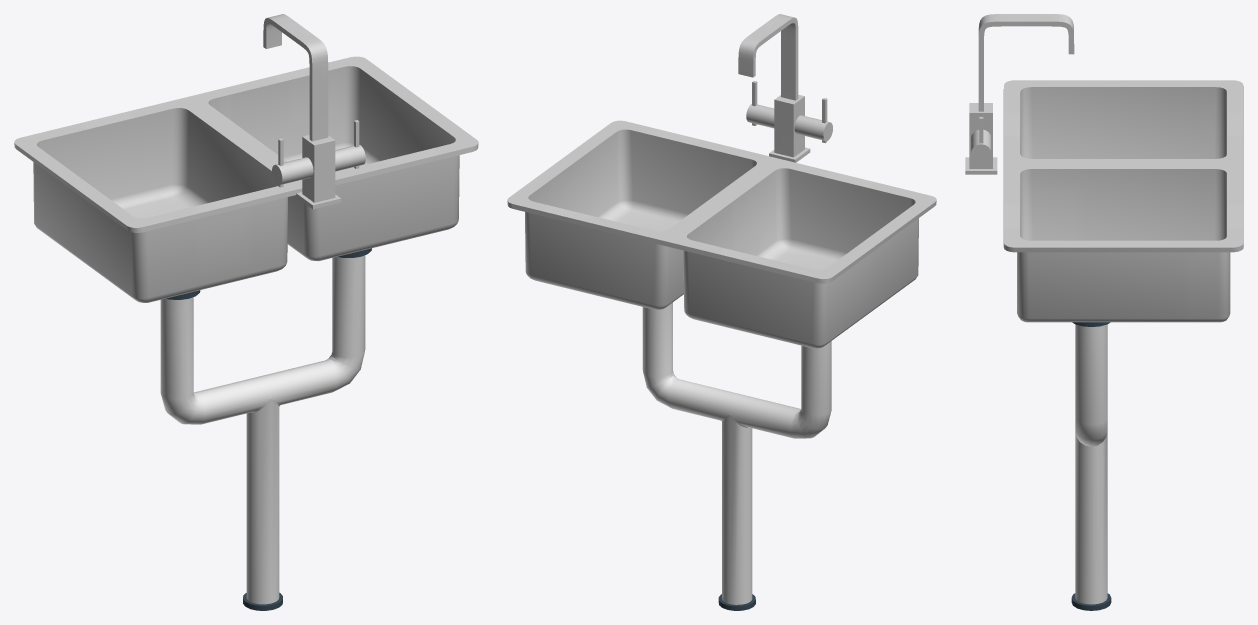
File: Sink06.glb
3 views of the same model, side by side, from view 1: azimuth 30°, elevation 25°; view 2: azimuth 150°, elevation 25°; view 3: azimuth 270°, elevation 25° (orthographic). The views are drawn at different scales.
Visible parts, largest first — view 1: Sink06_model, SinkFaucet06, SinkFaucet06Handle02; view 2: Sink06_model, SinkFaucet06; view 3: Sink06_model, SinkFaucet06, SinkFaucet06Handle01.
Part boxes in pixels (x1,y1,x2,y2): Sink06_model: (14,56,478,610); SinkFaucet06: (263,14,352,209); SinkFaucet06Handle02: (272,138,295,187); Sink06_model: (507,120,936,610); SinkFaucet06: (738,14,817,162); Sink06_model: (1003,80,1243,610); SinkFaucet06: (965,14,1074,174); SinkFaucet06Handle01: (971,117,991,164).
Bounding box in the file's own units: 1.45 × 2.36 × 1.02.
1 material, 1 textured.
